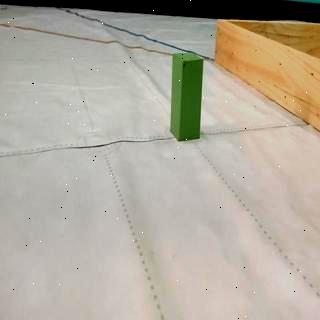greenbox: (170, 50, 202, 141)
